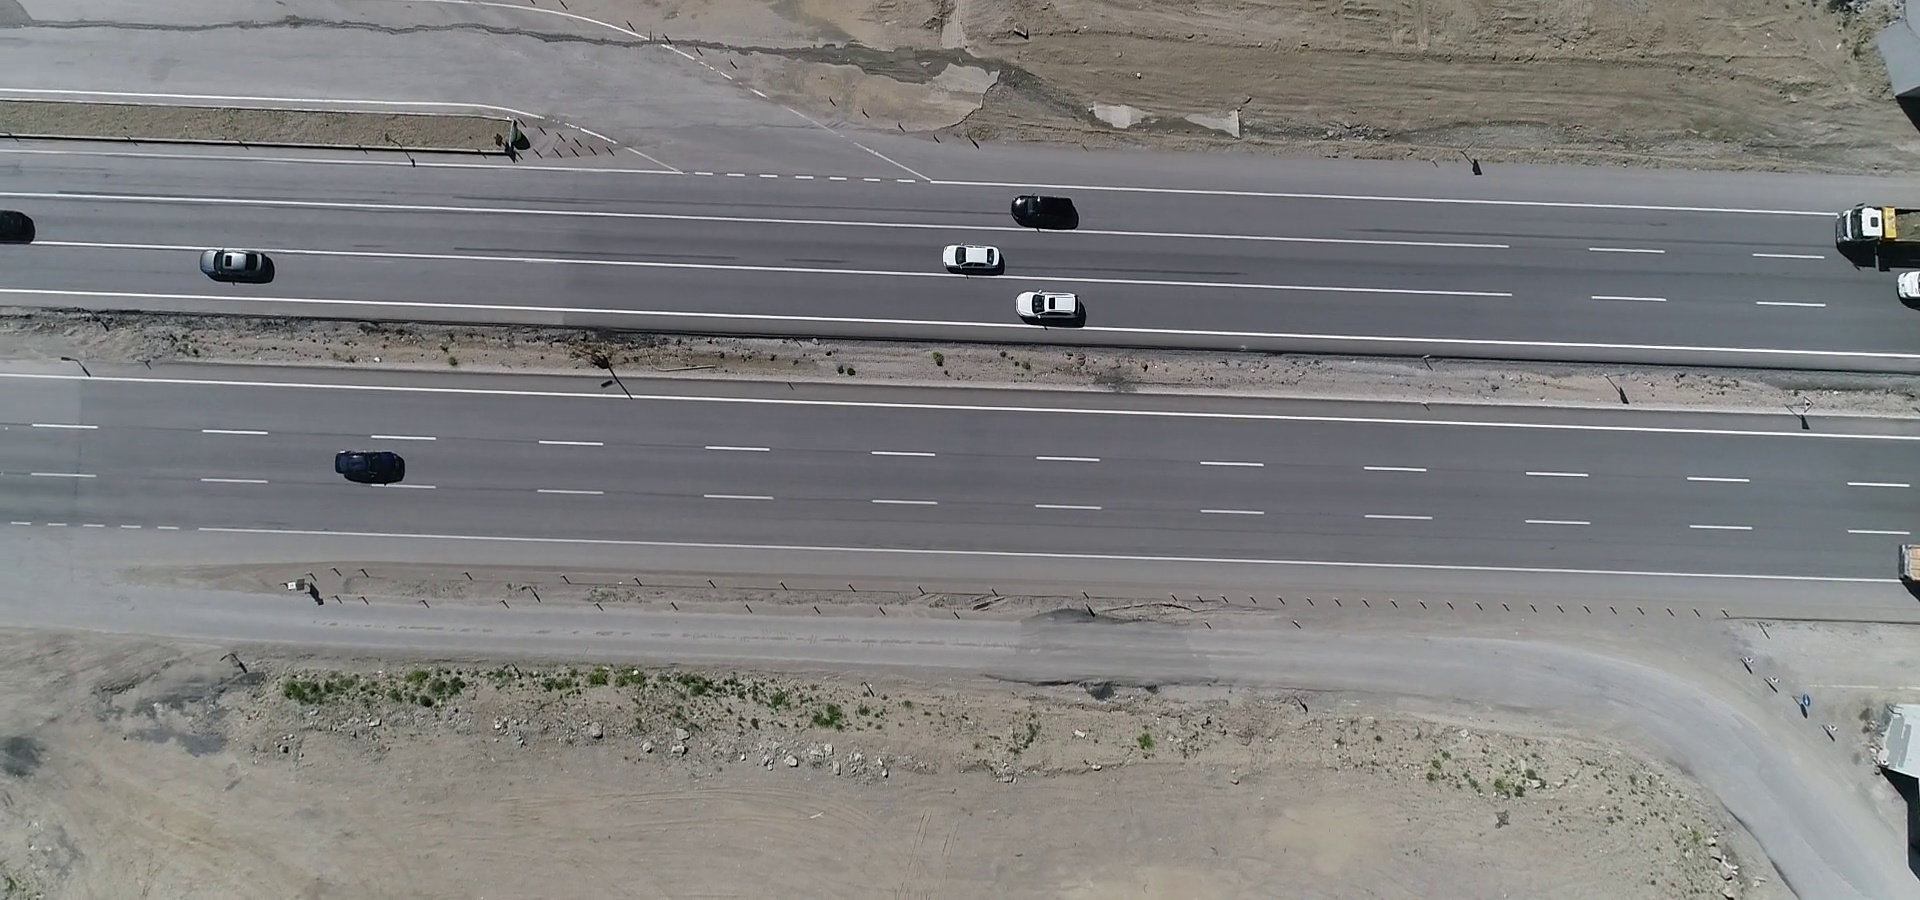araba: (1010, 280, 1087, 338), (189, 242, 273, 288), (1000, 187, 1093, 228), (332, 442, 414, 485), (937, 238, 1014, 272)
kamyon: (1833, 187, 1920, 249)
